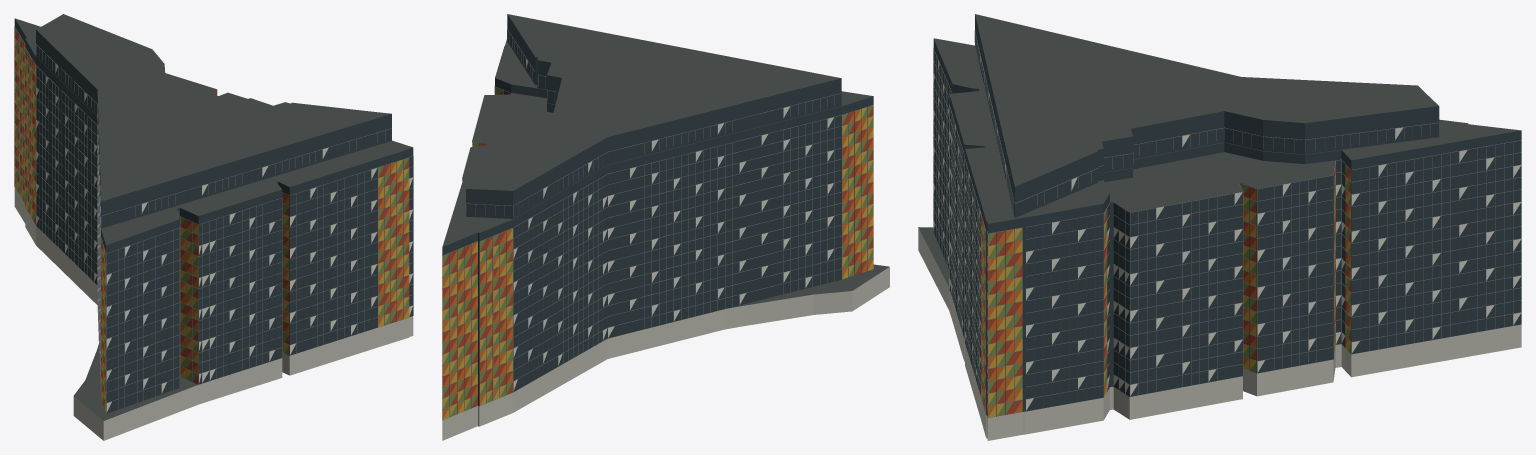
File: bourke700.glb
3 views of the same model, side by side, from view 1: azimuth 30°, elevation 25°; view 2: azimuth 150°, elevation 25°; view 3: azimuth 270°, elevation 25° (orthographic). The views are drawn at different scales.
Parts seen in each view (by area): view 1: structure_810894_clean_envelope, bourke700_frames, bourke700_2, bourke700_3, bourke700_1, bourke700_white, bourke700_0; view 2: structure_810894_clean_envelope, bourke700_frames, bourke700_2, bourke700_3, bourke700_1, bourke700_0, bourke700_white; view 3: structure_810894_clean_envelope, bourke700_frames, bourke700_white, bourke700_2, bourke700_1, bourke700_3, bourke700_0.
Boxes of the visible parts, left/top/right/bottom form: structure_810894_clean_envelope: left=14, top=14, right=413, bottom=440; bourke700_frames: left=14, top=26, right=413, bottom=413; bourke700_2: left=14, top=27, right=409, bottom=402; bourke700_3: left=14, top=32, right=409, bottom=406; bourke700_1: left=14, top=38, right=409, bottom=412; bourke700_white: left=36, top=64, right=412, bottom=412; bourke700_0: left=14, top=36, right=409, bottom=409; structure_810894_clean_envelope: left=442, top=14, right=889, bottom=440; bourke700_frames: left=442, top=29, right=873, bottom=420; bourke700_2: left=442, top=87, right=873, bottom=416; bourke700_3: left=442, top=90, right=873, bottom=407; bourke700_1: left=442, top=107, right=873, bottom=419; bourke700_0: left=442, top=109, right=873, bottom=419; bourke700_white: left=472, top=59, right=833, bottom=390; structure_810894_clean_envelope: left=918, top=14, right=1521, bottom=440; bourke700_frames: left=933, top=31, right=1521, bottom=417; bourke700_white: left=933, top=56, right=1521, bottom=410; bourke700_2: left=964, top=155, right=1350, bottom=416; bourke700_1: left=980, top=176, right=1350, bottom=417; bourke700_3: left=980, top=165, right=1350, bottom=414; bourke700_0: left=980, top=168, right=1350, bottom=416.
Bounding box in the file's own units: 109 × 66.1 × 146.
